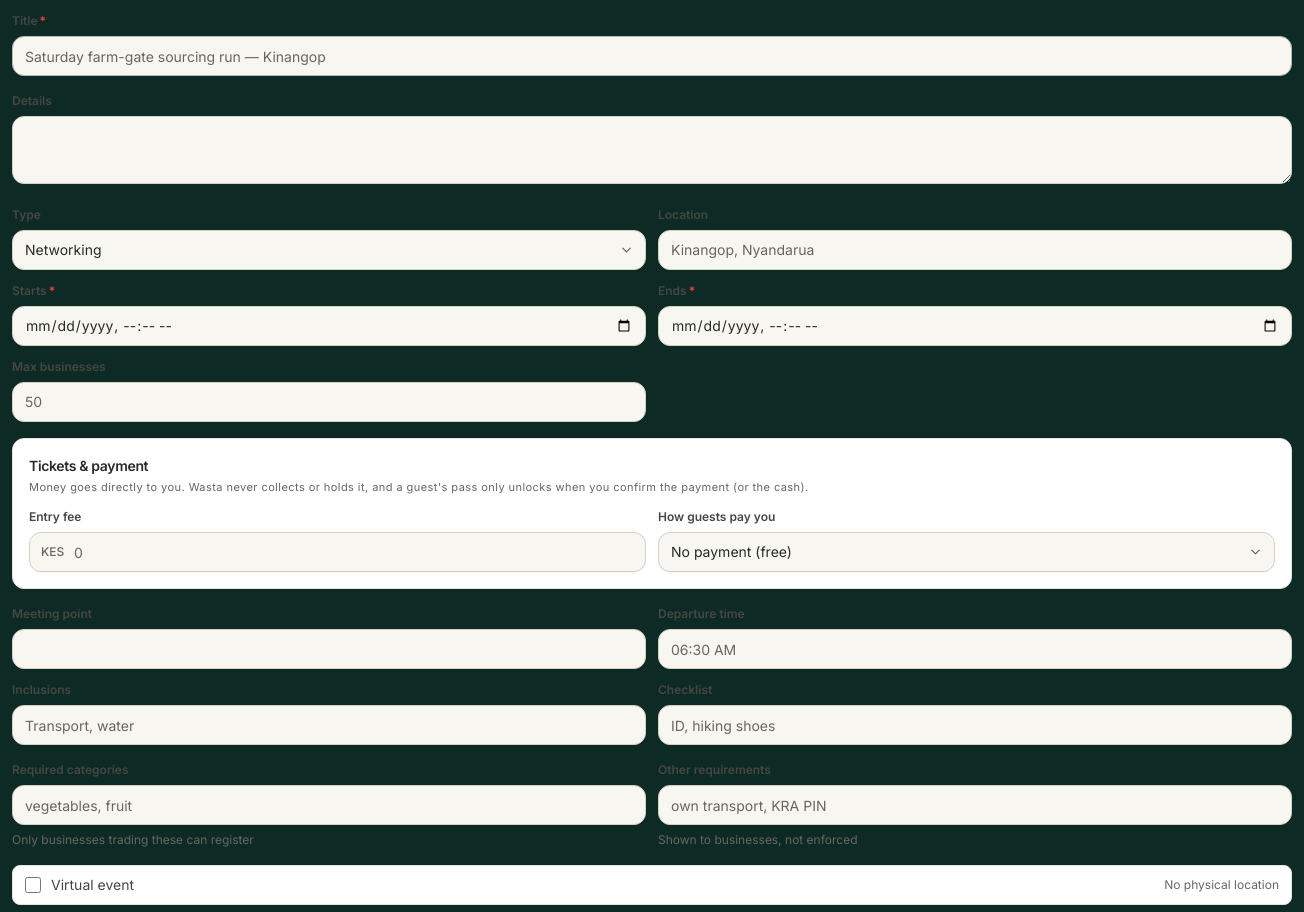
Test: event creation payment section › asks for a Paybill number and account when Paybill is chosen
This screenshot has width=1304, height=912.
Select "M-Pesa Paybill" in the dropdown labelled "How guests pay you" at (966, 552), box [658, 532, 1275, 572]
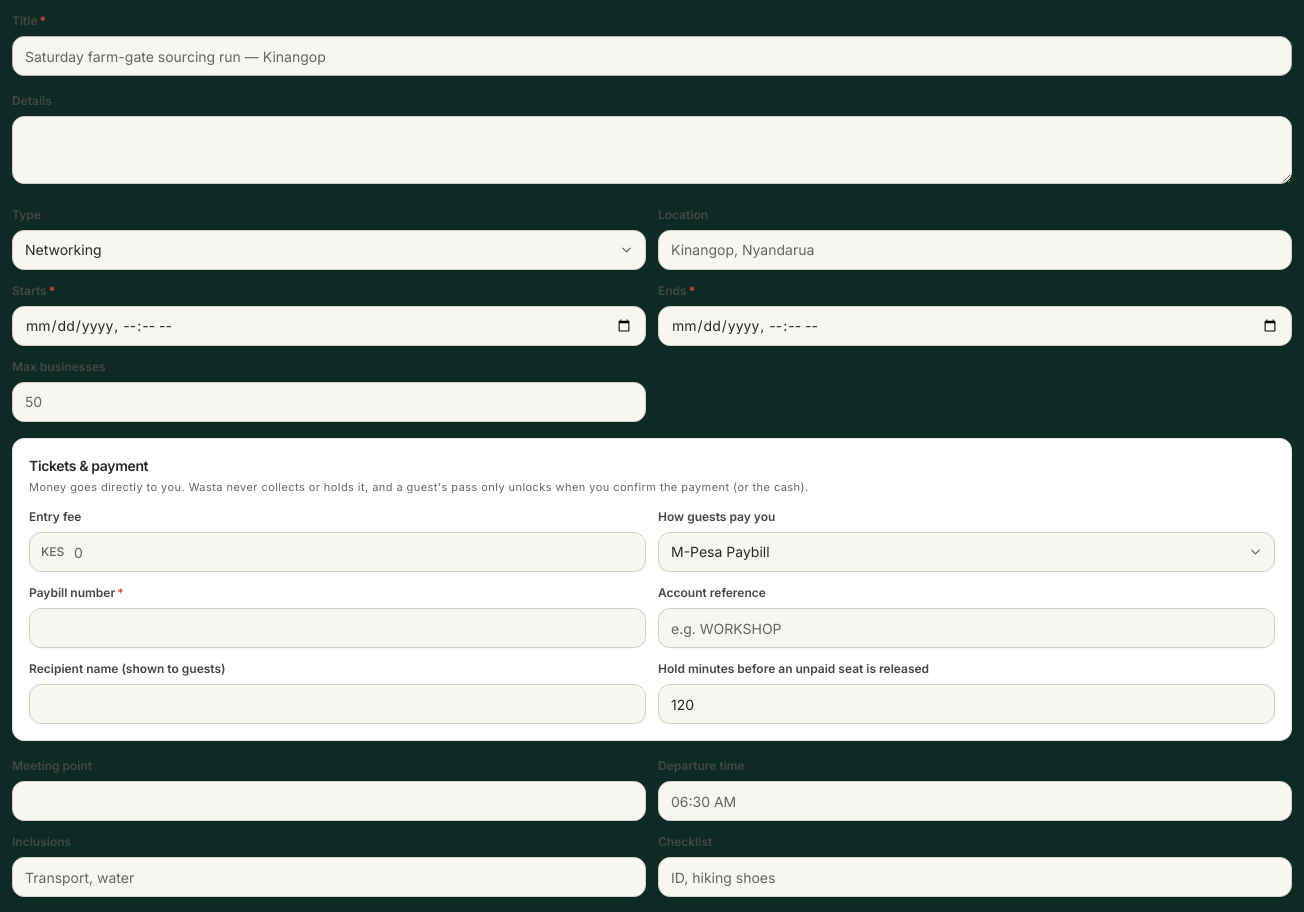
Expected: the field labelled "Paybill number*" is shown, [29, 608, 646, 648]
Expected: the field labelled "Account reference" is shown, [658, 608, 1275, 648]
Expected: the field labelled "Recipient name (shown to guests)" is shown, [29, 684, 646, 724]
